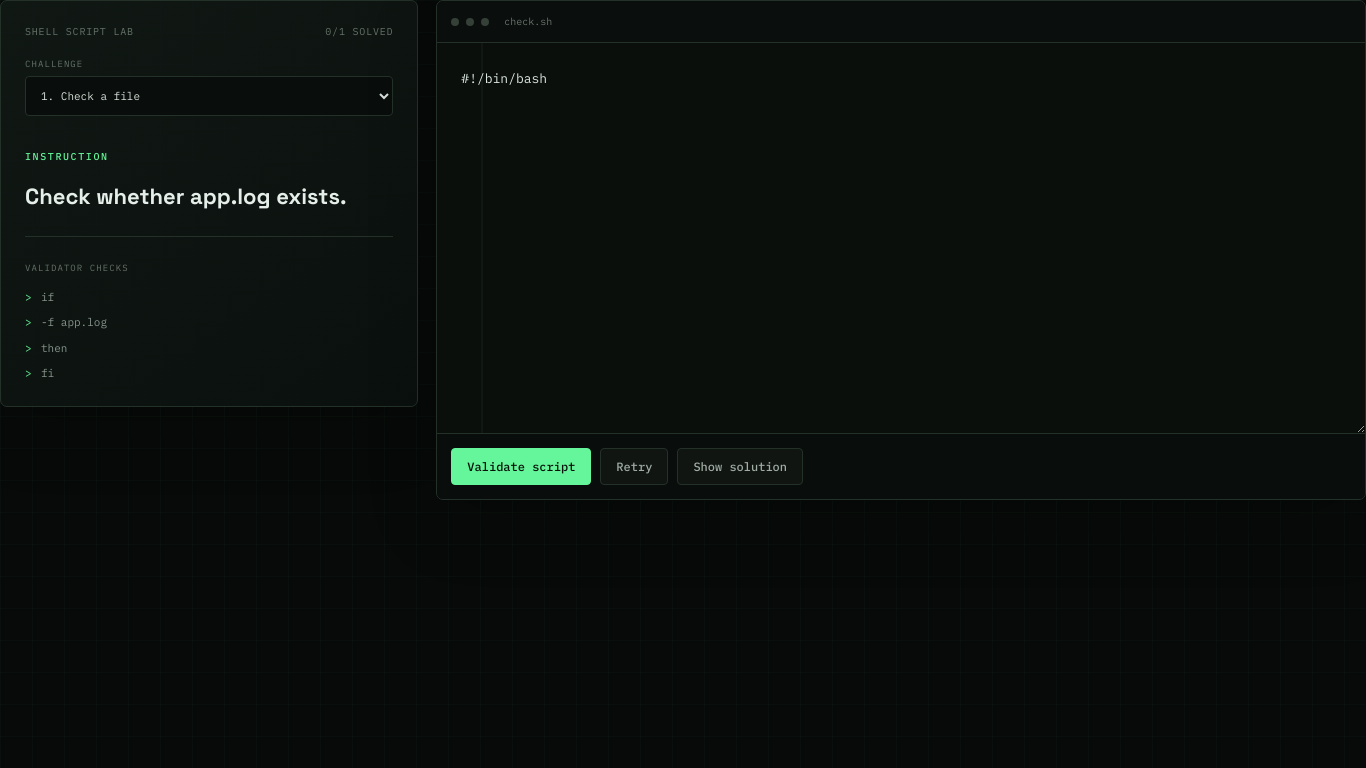
it: FilePractice › reveals the solution from the correction modal
Replace the text in the text box named "Shell script answer" with "incomplete" at [901, 238], box top-left (437, 43), bottom-right (1365, 433)
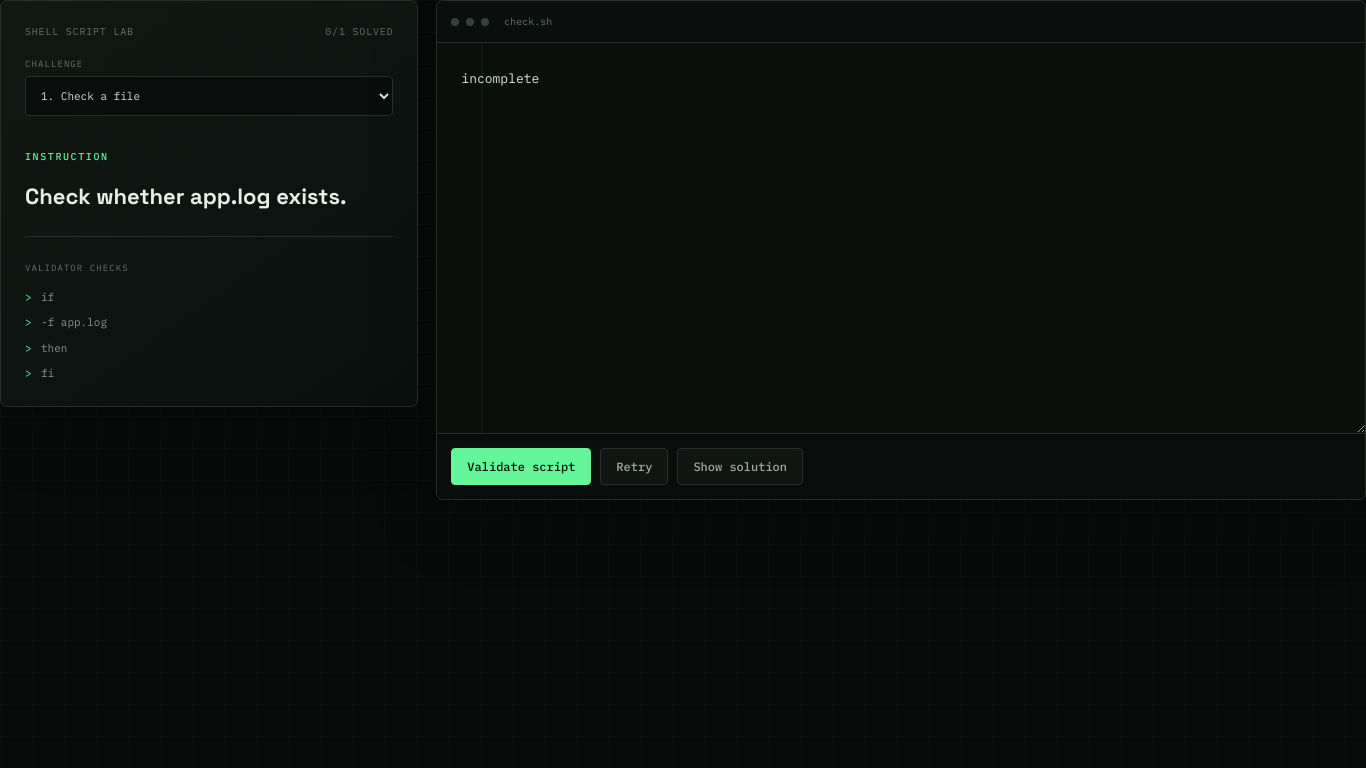
Click the button "Validate script" at [521, 466], box top-left (451, 448), bottom-right (591, 485)
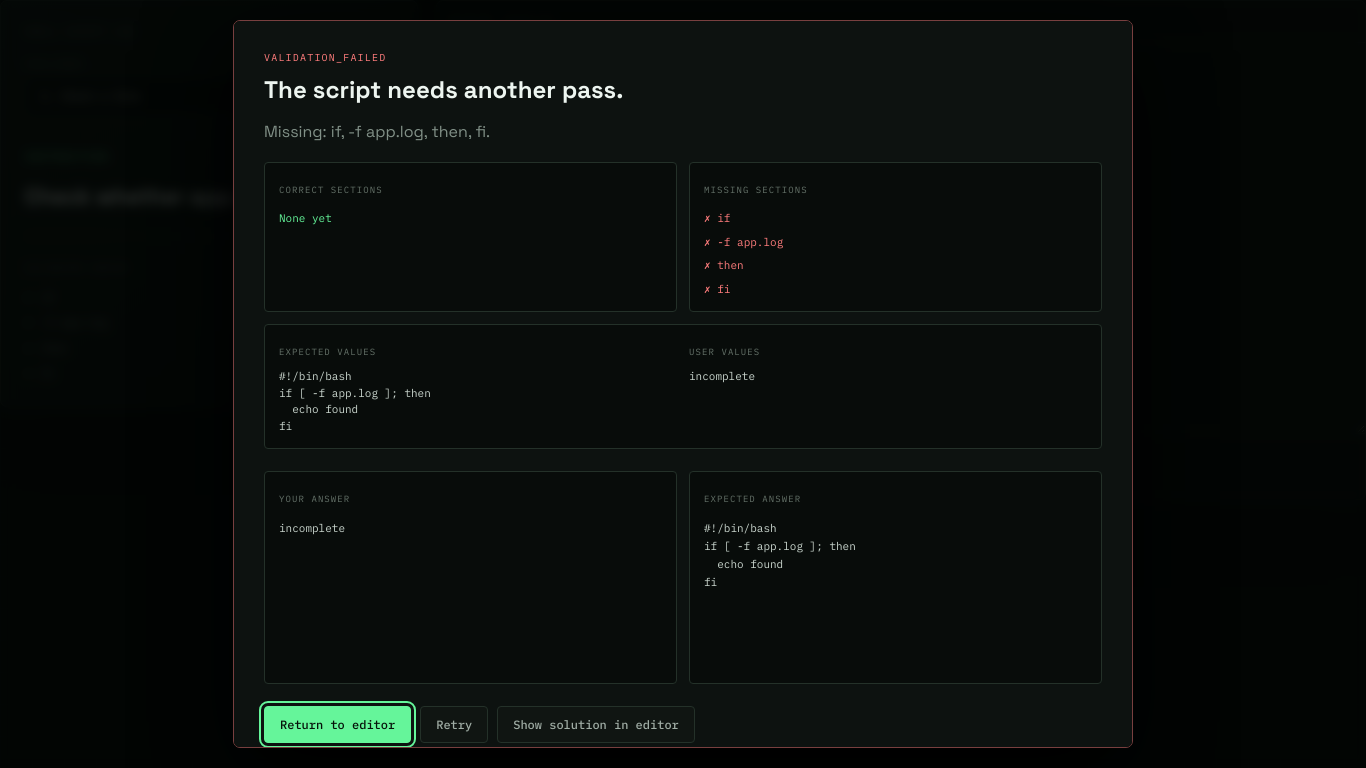
Click the button "Show solution in editor" at [596, 724], box top-left (497, 706), bottom-right (695, 743)
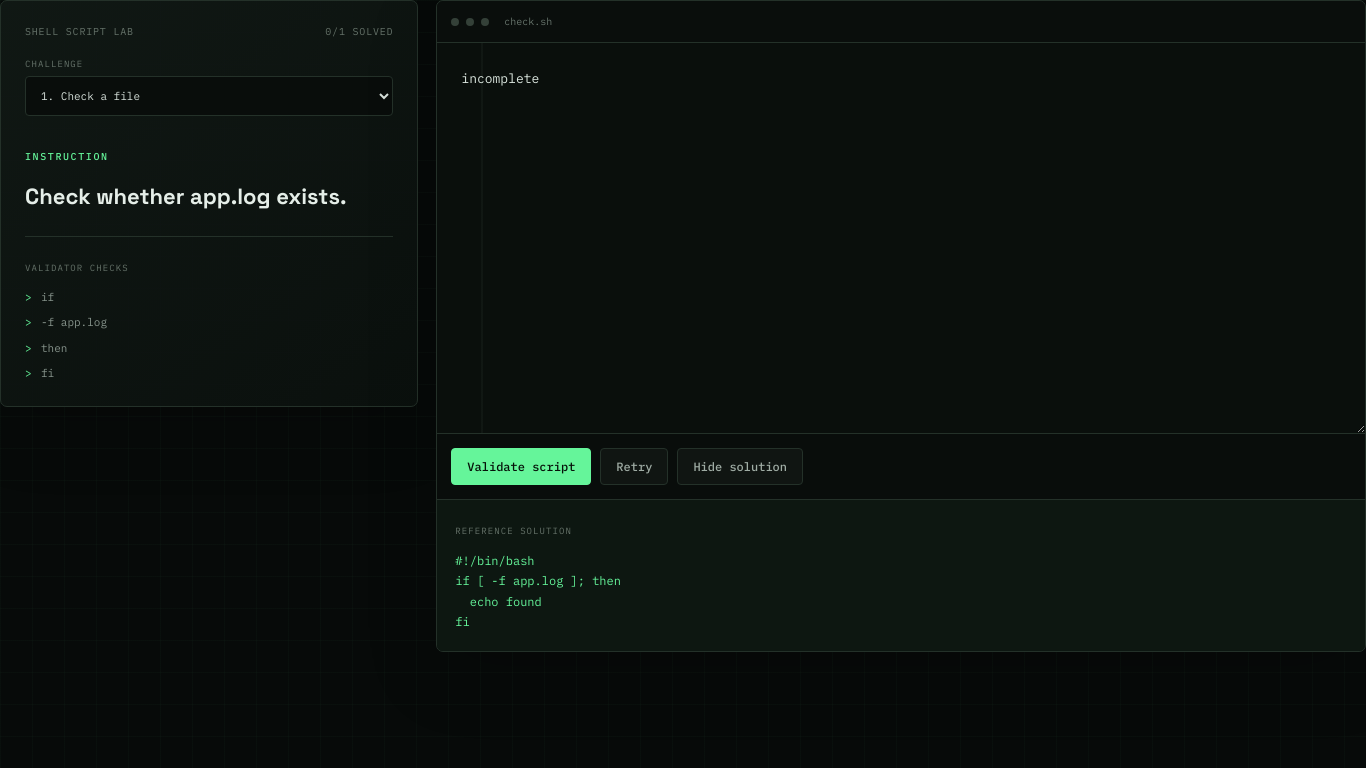
Check: the dialog is gone
Check: the text "reference solution" is shown, box top-left (455, 525), bottom-right (572, 536)
